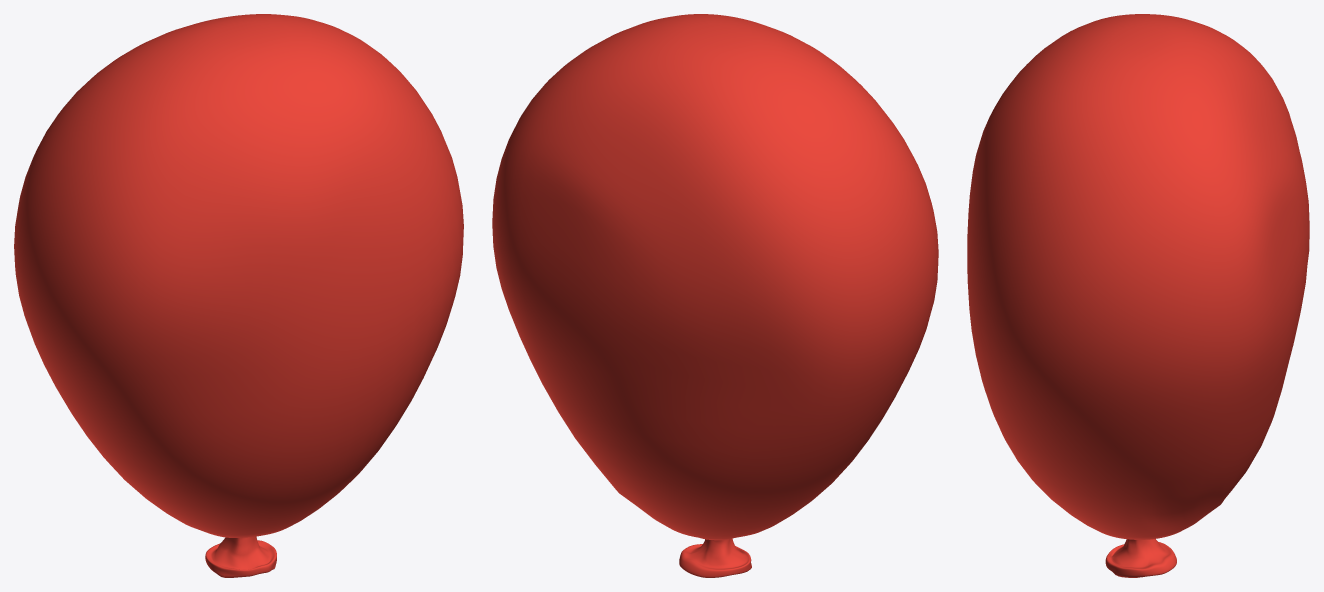
Rendered from WaterBalloon.fbx.
3 views of the same model, side by side, from view 1: azimuth 30°, elevation 25°; view 2: azimuth 150°, elevation 25°; view 3: azimuth 270°, elevation 25° (orthographic).
Parts seen in each view (by area): view 1: WaterBalloon; view 2: WaterBalloon; view 3: WaterBalloon.
Boxes of the visible parts, x1,y1,x2,y2 form: WaterBalloon: (14, 14, 463, 577); WaterBalloon: (492, 14, 938, 577); WaterBalloon: (967, 14, 1309, 577).
Size of the model in its own units: 200 by 254 by 149.
